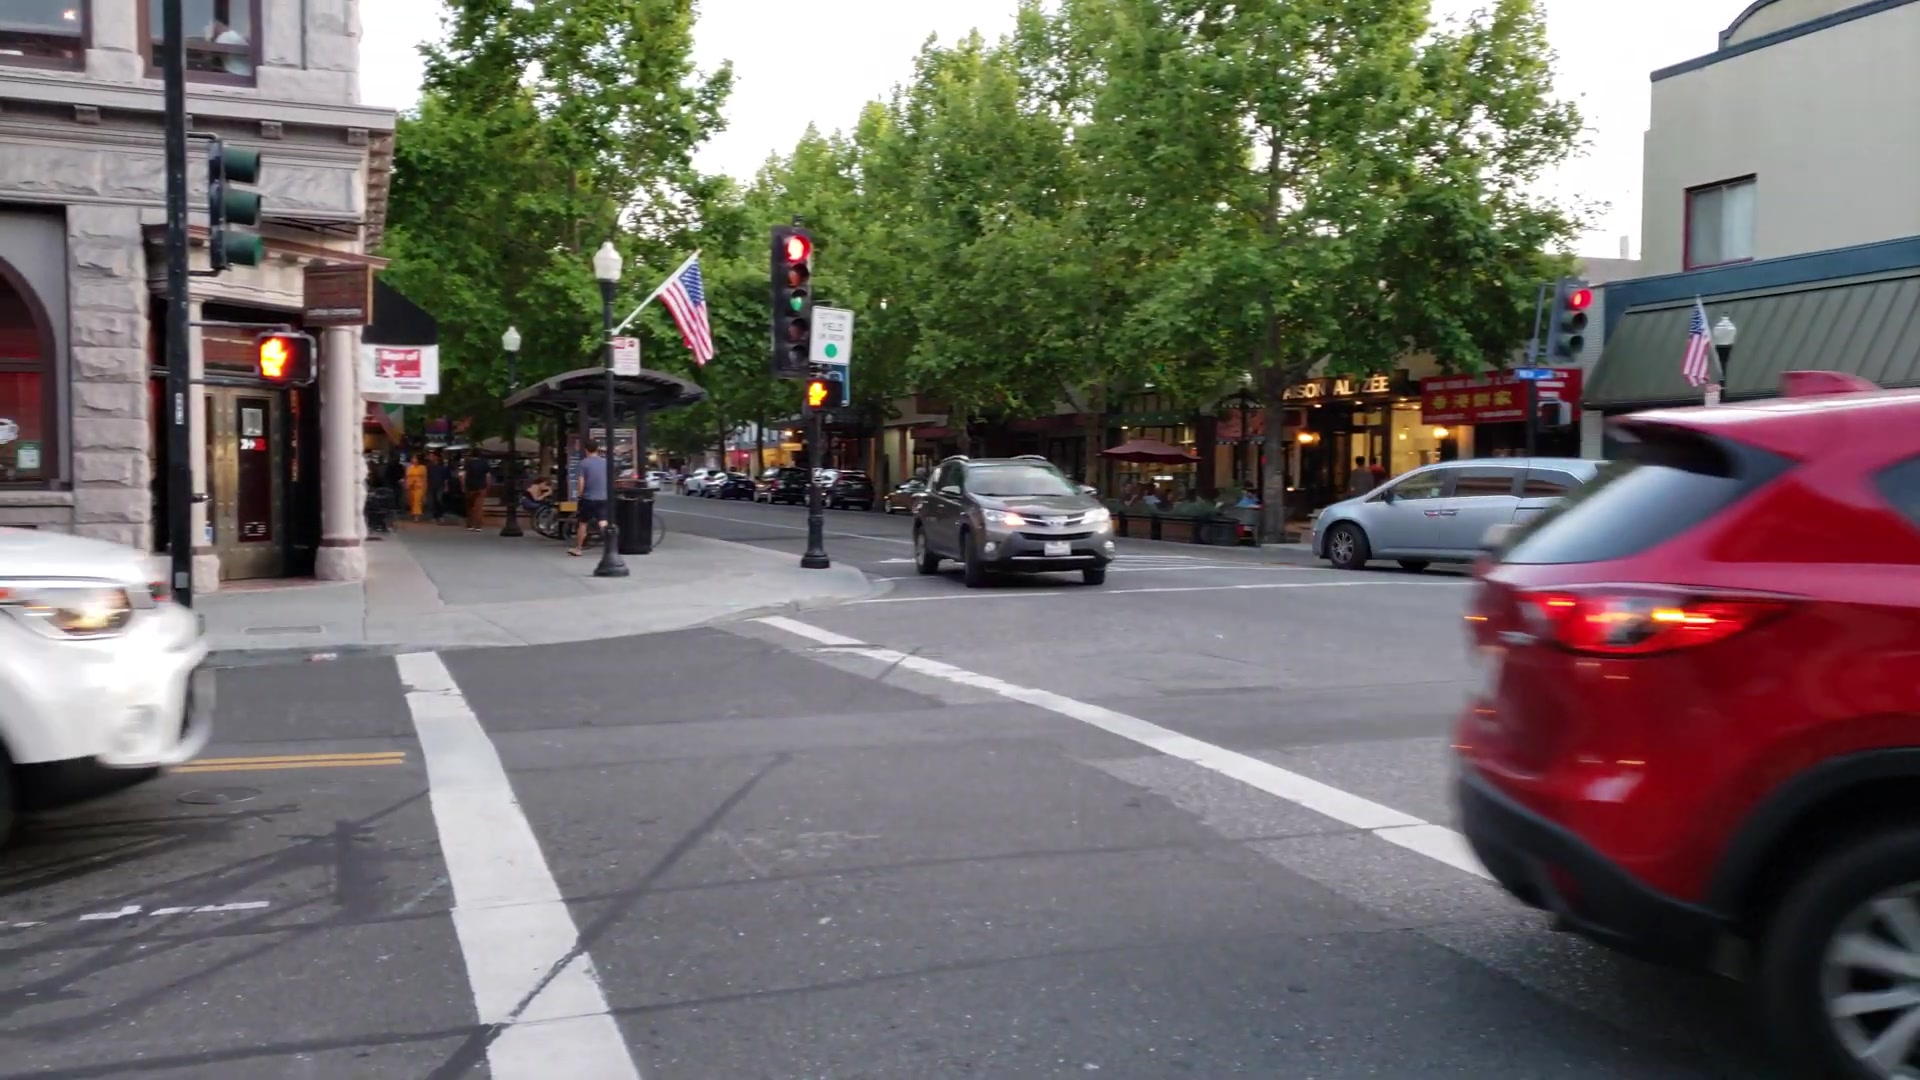vehicle: (1486, 401, 1917, 1080), (1307, 448, 1615, 572), (903, 451, 1124, 585)
